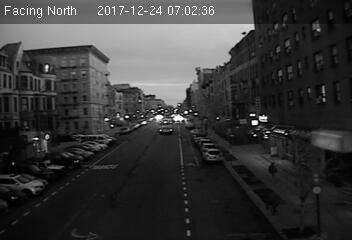car: (202, 147, 222, 163), (159, 125, 172, 134)
pedestrian: (268, 160, 279, 180)
